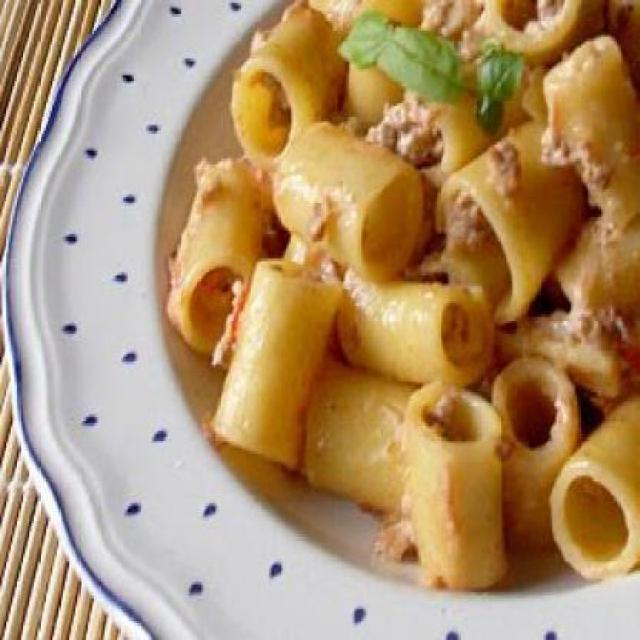Pasta al ragu: (223, 28, 634, 560)
